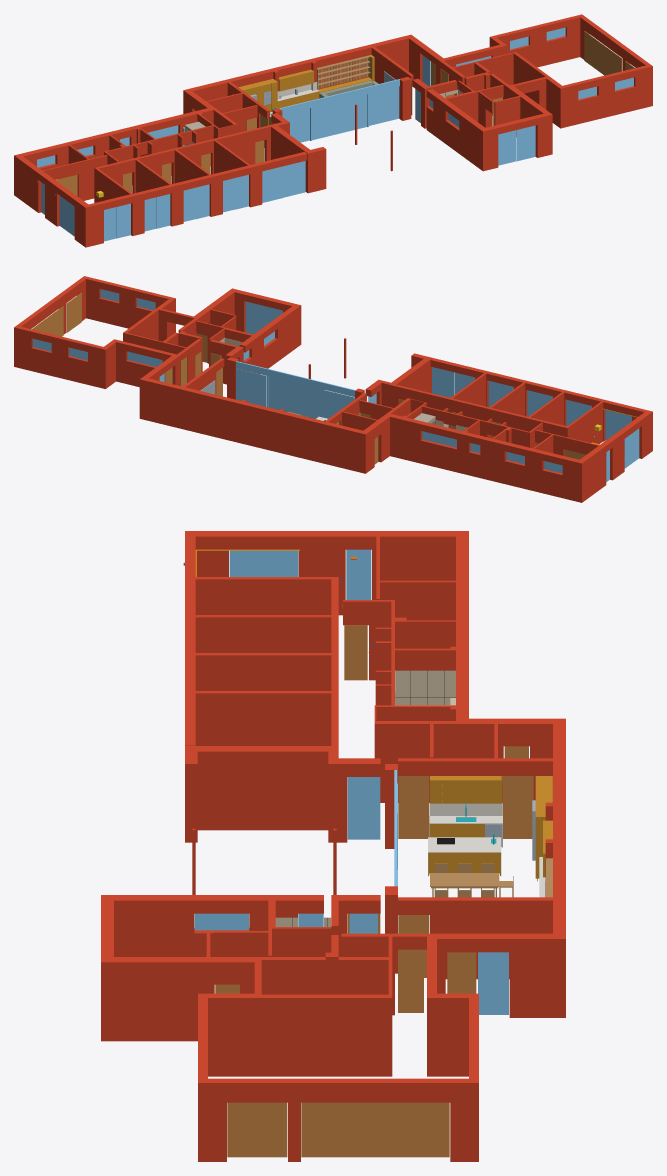
The model's file is ground_floor.glb.
3 views of the same model, one above another, from view 1: azimuth 30°, elevation 25°; view 2: azimuth 150°, elevation 25°; view 3: azimuth 270°, elevation 25° (orthographic). The views are drawn at different scales.
Parts seen in each view (by area): view 1: masonry__W-002__, masonry__W-005__, masonry__W-029__, masonry__W-013__, masonry__W-030__, masonry__W-054__, masonry__W-026__, masonry__W-027__, glazing__WIN-OP28__, glazing__WIN-OP21__ (×2), masonry__W-001__, masonry__W-067__ (+38 smaller); view 2: masonry__W-029__, masonry__W-026__, masonry__W-027__, masonry__W-005__, masonry__W-030__, masonry__W-013__, masonry__W-002__, masonry__W-054__, glazing__WIN-OP28__, masonry__W-025__, masonry__W-022__, masonry__W-067__ (+31 smaller); view 3: masonry__W-049__, masonry__W-066__, masonry__W-067__, masonry__W-063__, masonry__W-030__, masonry__W-054__, door__D-OP50__, masonry__W-044__, masonry__W-060__, masonry__W-056__, masonry__W-031__, masonry__W-034__ (+40 smaller).
Part boxes in pixels (bbox=[...]): masonry__W-002__: bbox=[89, 152, 307, 245]; masonry__W-005__: bbox=[558, 65, 648, 128]; masonry__W-029__: bbox=[183, 34, 413, 113]; masonry__W-013__: bbox=[94, 125, 270, 202]; masonry__W-030__: bbox=[17, 156, 91, 247]; masonry__W-054__: bbox=[426, 89, 488, 171]; masonry__W-026__: bbox=[14, 107, 216, 197]; masonry__W-027__: bbox=[489, 15, 580, 67]; glazing__WIN-OP28__: bbox=[312, 94, 367, 140]; glazing__WIN-OP21__ (×2): bbox=[262, 161, 305, 202]; masonry__W-001__: bbox=[485, 113, 546, 169]; masonry__W-067__: bbox=[578, 14, 652, 106]; masonry__W-029__: bbox=[139, 377, 368, 473]; masonry__W-026__: bbox=[385, 413, 585, 502]; masonry__W-027__: bbox=[18, 326, 107, 388]; masonry__W-005__: bbox=[86, 277, 175, 333]; masonry__W-030__: bbox=[580, 410, 652, 500]; masonry__W-013__: bbox=[394, 384, 569, 437]; masonry__W-002__: bbox=[430, 358, 646, 441]; masonry__W-054__: bbox=[239, 304, 301, 374]; glazing__WIN-OP28__: bbox=[268, 376, 322, 418]; masonry__W-025__: bbox=[112, 339, 173, 386]; masonry__W-022__: bbox=[422, 406, 530, 447]; masonry__W-067__: bbox=[14, 276, 88, 367]; masonry__W-049__: bbox=[185, 746, 338, 830]; masonry__W-066__: bbox=[261, 994, 392, 1076]; masonry__W-067__: bbox=[198, 1078, 478, 1161]; masonry__W-063__: bbox=[101, 957, 261, 1041]; masonry__W-030__: bbox=[185, 531, 455, 615]; masonry__W-054__: bbox=[101, 895, 323, 956]; door__D-OP50__: bbox=[301, 1102, 449, 1157]; masonry__W-044__: bbox=[195, 691, 331, 745]; masonry__W-060__: bbox=[427, 933, 552, 1017]; masonry__W-056__: bbox=[398, 897, 552, 979]; masonry__W-031__: bbox=[195, 577, 331, 614]; masonry__W-034__: bbox=[195, 615, 331, 652].
Bounding box in the file's own units: 45.1 × 3.05 × 16.05.
